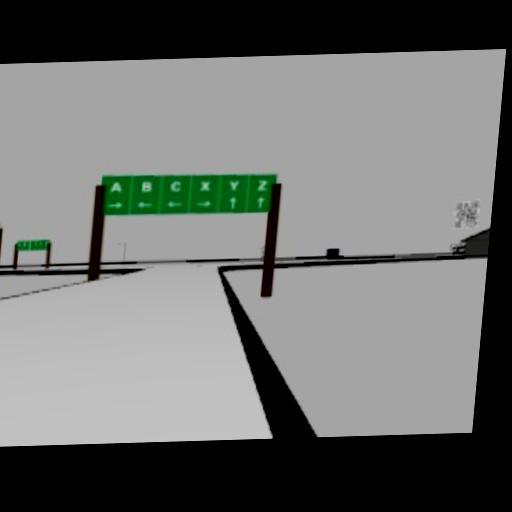A: (109, 180, 123, 196)
B: (140, 180, 154, 194)
C: (169, 180, 183, 194)
Left: (165, 201, 183, 210), (136, 202, 154, 210)
Right: (195, 200, 214, 209), (107, 202, 124, 210)
Straight: (255, 195, 265, 211), (228, 196, 238, 211)
X: (198, 180, 211, 193)
Y: (227, 179, 240, 192)
Z: (257, 180, 269, 192)
